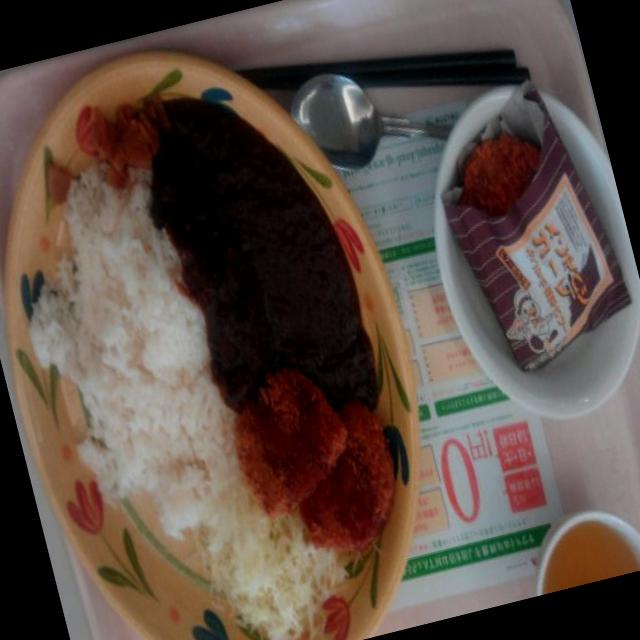Beef Curry: (29, 155, 300, 640)
